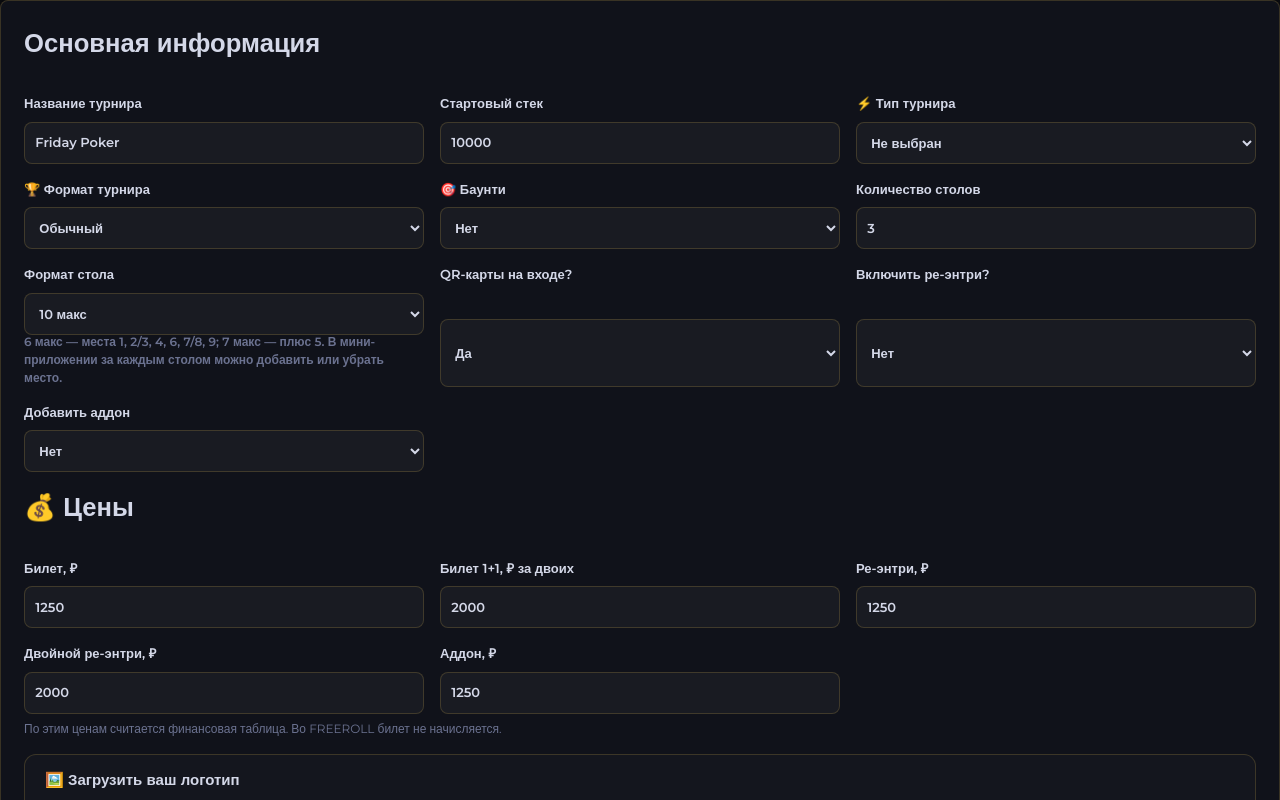
re-entry settings UI › shows max re-entry count only when re-entry is enabled
Expected: the field labelled "кол-во ре-энтри" is not shown
Select "Да" in the dropdown labelled "Включить ре-энтри?" at (1056, 353), box [856,319,1256,387]
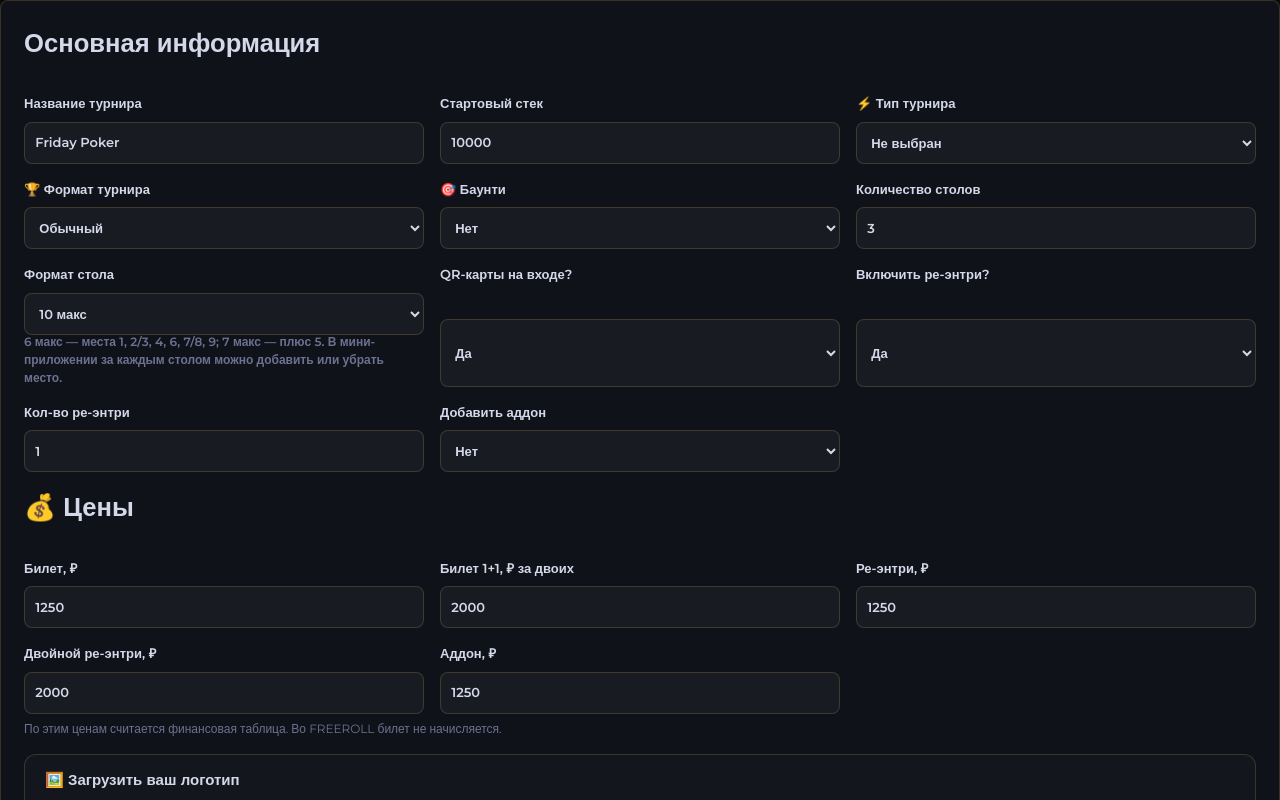
Expected: the number field labelled "Кол-во ре-энтри" holds "1", [24,430,424,472]
